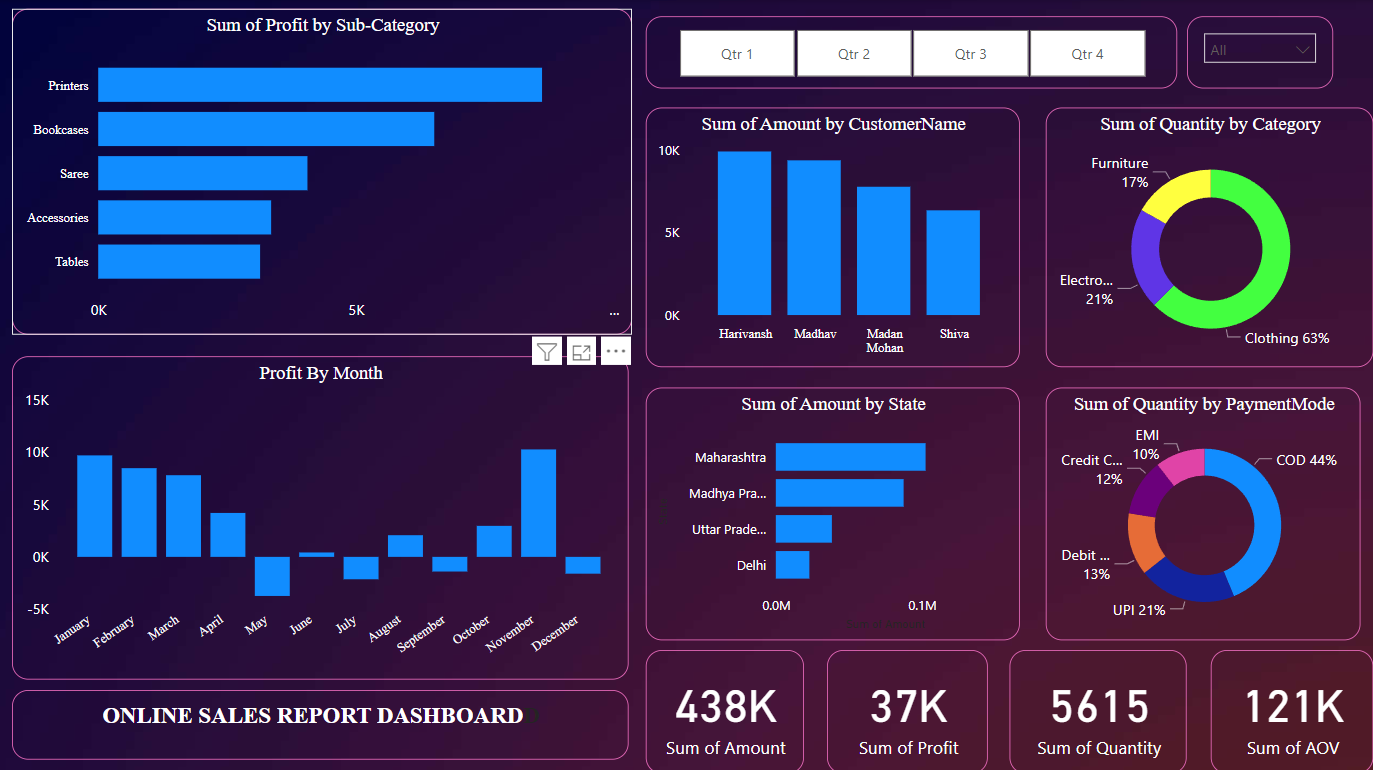

The page's visual inventory and layout, read from the dashboard file:
{"tool":"powerbi","page":{"name":"Page 1","canvas":[1280,720],"ordinal":0},"visuals":[{"type":"textbox","box":[14,641.9,573.3,65.1],"z":0},{"type":"columnChart","title":"Profit By Month","fields":{"Category":["Orders.Order Date.Variation.Date Hierarchy.Month"],"Y":["Details.Profit"]},"box":[14,331.4,573.3,301.2],"z":1000},{"type":"barChart","fields":{"Category":["Details.Sub-Category"],"Y":["Details.Profit"]},"box":[14,8.1,576.7,303.5],"z":2000},{"type":"donutChart","fields":{"Category":["Details.Category"],"Y":["Details.Quantity"]},"box":[975.6,100,304.7,241.9],"z":3000},{"type":"donutChart","fields":{"Category":["Details.PaymentMode"],"Y":["Details.Quantity"]},"box":[975.6,360.5,293,234.9],"z":4000},{"type":"card","fields":{"Values":["Details.Amount"]},"box":[603.8,605.1,146.8,115.3],"z":5000},{"type":"card","fields":{"Values":["Details.Quantity"]},"box":[941.3,605.1,164.7,115.3],"z":6000},{"type":"card","fields":{"Values":["Details.Profit"]},"box":[772.6,605.1,149.6,115.3],"z":7000},{"type":"card","fields":{"Values":["Details.AOV"]},"box":[1129.3,605.1,150.9,115.3],"z":8000},{"type":"barChart","fields":{"Category":["Orders.State"],"Y":["Details.Amount"]},"box":[603.5,360.5,347.7,234.9],"z":9000},{"type":"columnChart","fields":{"Category":["Orders.CustomerName"],"Y":["Details.Amount"]},"box":[603.5,100,347.7,241.9],"z":10000},{"type":"slicer","fields":{"Values":["Orders.Order Date.Variation.Date Hierarchy.Quarter"]},"box":[603.5,15.1,494.2,67.4],"z":11000},{"type":"slicer","fields":{"Values":["Orders.State"]},"box":[1107,15.1,136,67.4],"z":12000}]}

Visuals, with their boxes in screenshot pixels (x1, y1, x2, y2), scaled from the page's 1280x720 canvas onto the 1373x770 screenshot:
textbox: {"x1": 15, "y1": 686, "x2": 630, "y2": 756}
"Profit By Month" columnChart: {"x1": 15, "y1": 354, "x2": 630, "y2": 677}
barChart - Details.Sub-Category x Details.Profit: {"x1": 15, "y1": 9, "x2": 634, "y2": 333}
donutChart - Details.Category x Details.Quantity: {"x1": 1046, "y1": 107, "x2": 1372, "y2": 366}
donutChart - Details.PaymentMode x Details.Quantity: {"x1": 1046, "y1": 386, "x2": 1361, "y2": 637}
card - Details.Amount: {"x1": 648, "y1": 647, "x2": 805, "y2": 769}
card - Details.Quantity: {"x1": 1010, "y1": 647, "x2": 1186, "y2": 769}
card - Details.Profit: {"x1": 829, "y1": 647, "x2": 989, "y2": 769}
card - Details.AOV: {"x1": 1211, "y1": 647, "x2": 1372, "y2": 769}
barChart - Orders.State x Details.Amount: {"x1": 647, "y1": 386, "x2": 1020, "y2": 637}
columnChart - Orders.CustomerName x Details.Amount: {"x1": 647, "y1": 107, "x2": 1020, "y2": 366}
slicer - Orders.Order Date.Variation.Date Hierarchy.Quarter: {"x1": 647, "y1": 16, "x2": 1177, "y2": 88}
slicer - Orders.State: {"x1": 1187, "y1": 16, "x2": 1333, "y2": 88}
